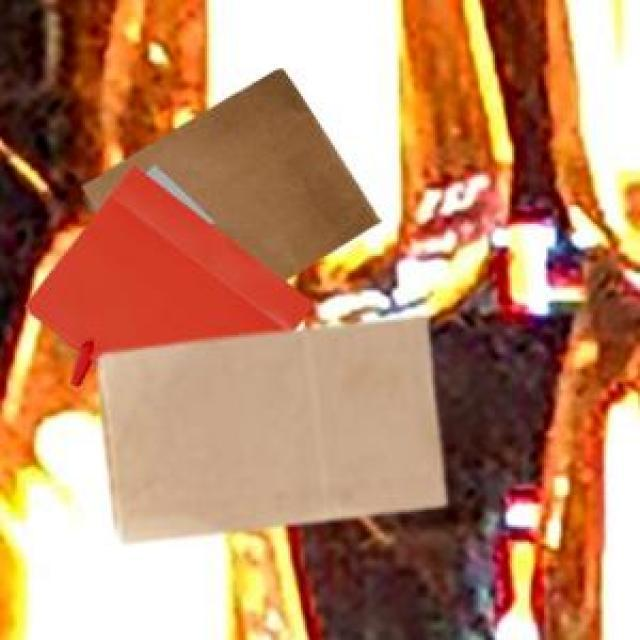Paper_Bag: (97, 314, 443, 538), (22, 164, 310, 382), (80, 68, 377, 278)
